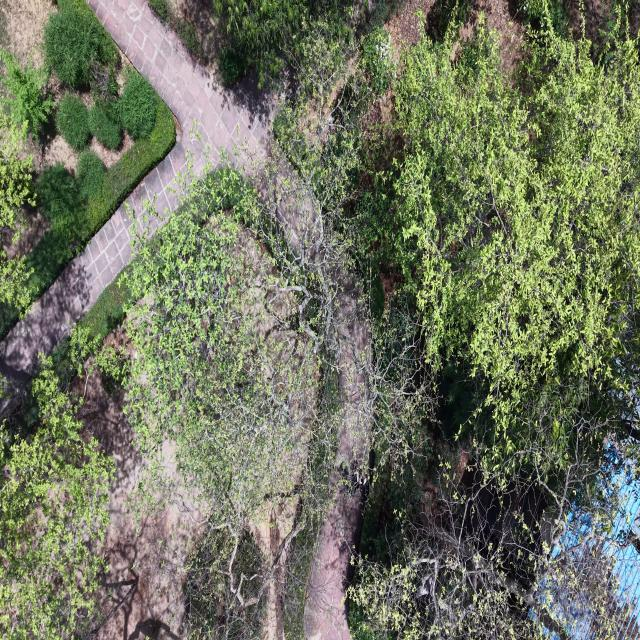DRY_AREA: (0, 0, 271, 378), (0, 0, 271, 376), (0, 3, 268, 377), (74, 371, 220, 639), (75, 371, 203, 639), (88, 0, 270, 163), (304, 261, 372, 639), (305, 273, 372, 639), (304, 278, 371, 639), (305, 273, 371, 639), (305, 274, 370, 639), (96, 0, 233, 137), (304, 486, 365, 639), (461, 0, 525, 78), (461, 0, 525, 74), (566, 0, 639, 53), (0, 0, 57, 67), (170, 0, 225, 68), (0, 0, 54, 67), (0, 0, 51, 67), (386, 0, 435, 51)
PATHWAYS: (0, 0, 270, 378)
VEGETATION_TREE: (56, 3, 639, 639), (263, 21, 637, 637), (276, 21, 638, 637), (351, 20, 639, 638), (55, 170, 331, 637), (382, 24, 639, 463), (263, 22, 429, 636), (120, 170, 330, 637), (270, 22, 425, 472), (127, 171, 315, 533), (0, 0, 175, 335), (349, 443, 636, 639), (0, 54, 175, 333), (0, 361, 113, 639), (23, 101, 175, 307), (269, 21, 372, 272), (149, 0, 374, 87), (0, 51, 72, 246), (213, 0, 352, 87), (0, 49, 53, 244), (185, 529, 264, 639), (213, 0, 310, 85), (44, 0, 118, 88), (0, 49, 53, 134), (0, 114, 34, 241), (0, 115, 32, 229), (149, 0, 203, 58), (117, 70, 157, 139), (37, 163, 78, 225), (362, 27, 394, 94), (56, 93, 90, 151), (0, 251, 31, 313), (429, 0, 473, 40), (517, 0, 569, 32), (88, 100, 121, 149), (76, 150, 106, 199), (219, 47, 249, 86), (150, 0, 172, 21)
